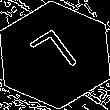L_SE: (25, 25, 85, 85)
